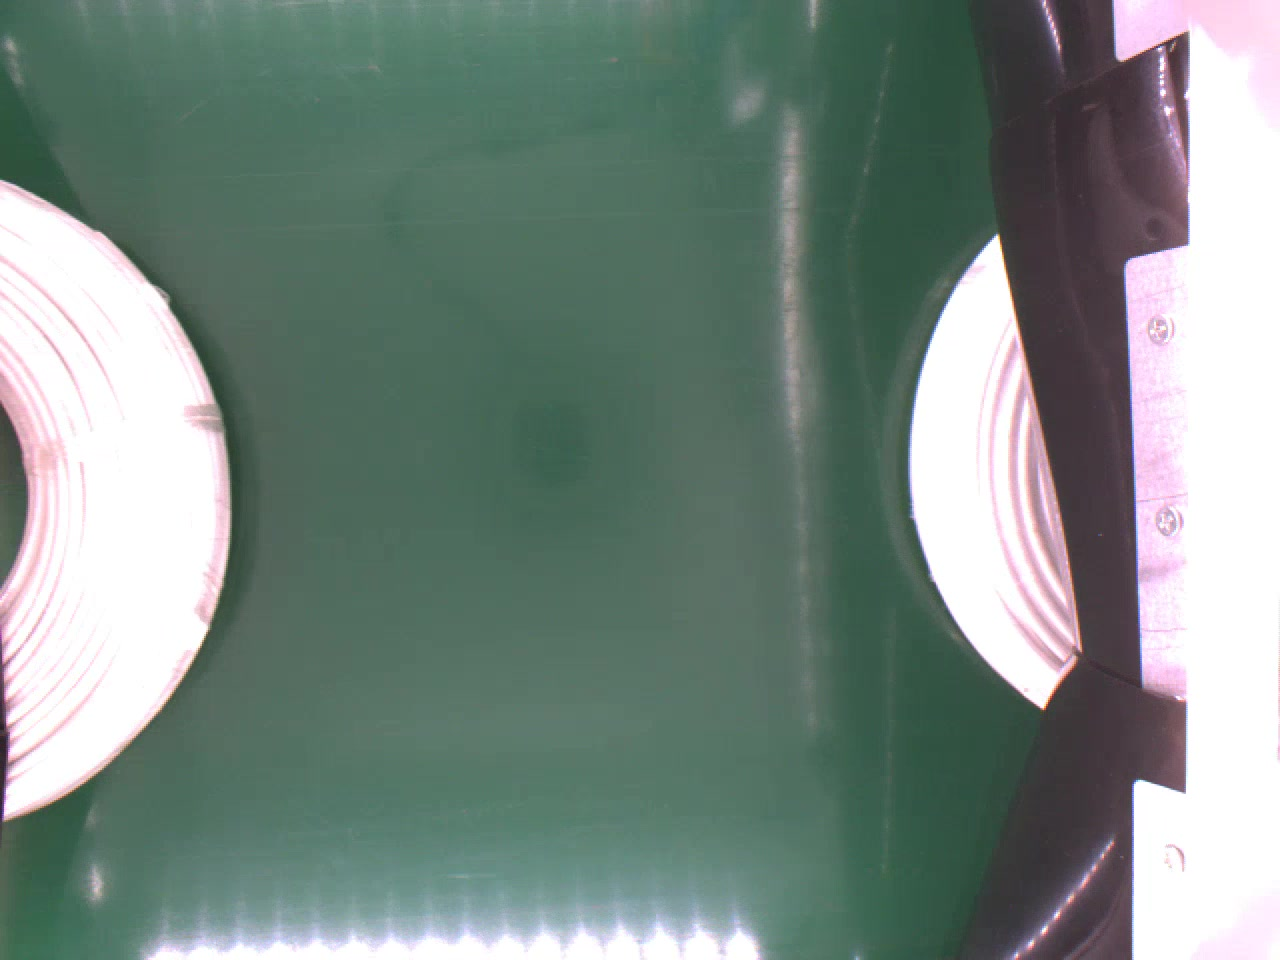white: (0, 174, 234, 823), (906, 228, 1072, 718)
